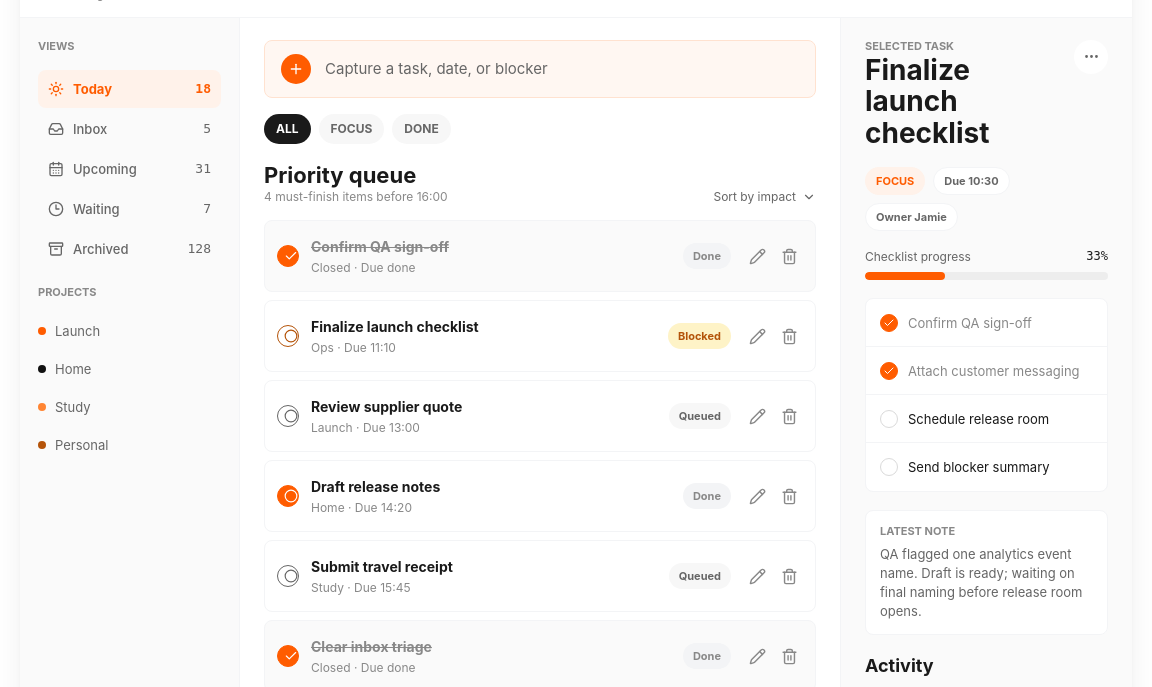
Test: App › toggles task completion
The width and height of the screenshot is (1152, 687).
(page scrolled)
expect the text "Finalize launch checklist" is shown: met, box x1=311 y1=318 x2=479 y2=335
What coordinates should you click on to do the following:
click the button named "Mark as completed" next to "Ops"
I would click on:
 (288, 336)
Its box is x1=277 y1=326 x2=299 y2=348.
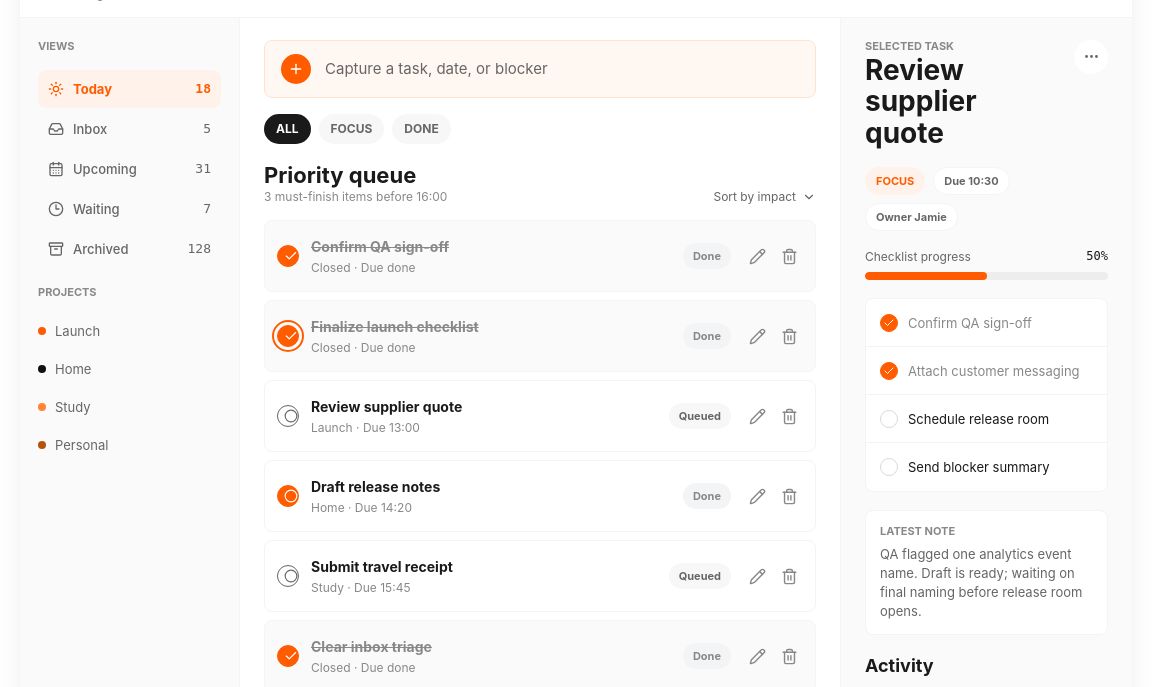
expect the text "Done" in the row of "Finalize launch checklist" is shown: met, box x1=693 y1=330 x2=721 y2=344
